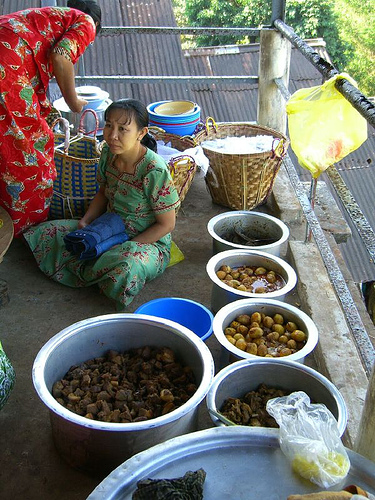without_mask: (102, 105, 149, 158)
